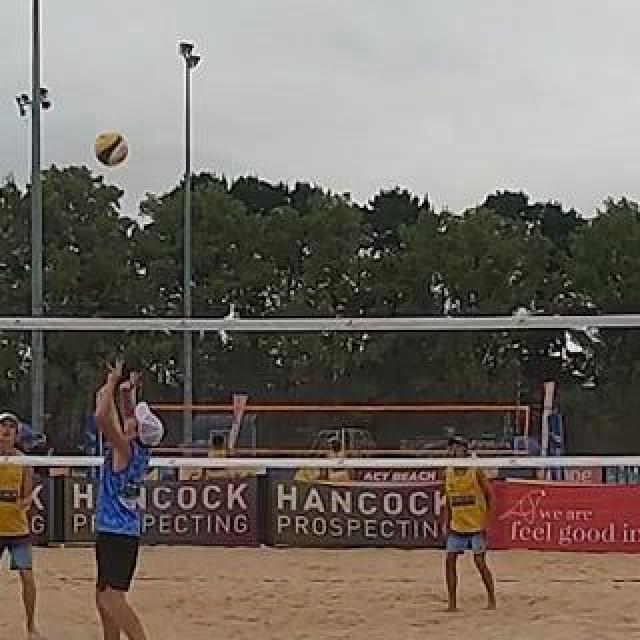volleyball: (92, 130, 128, 166)
